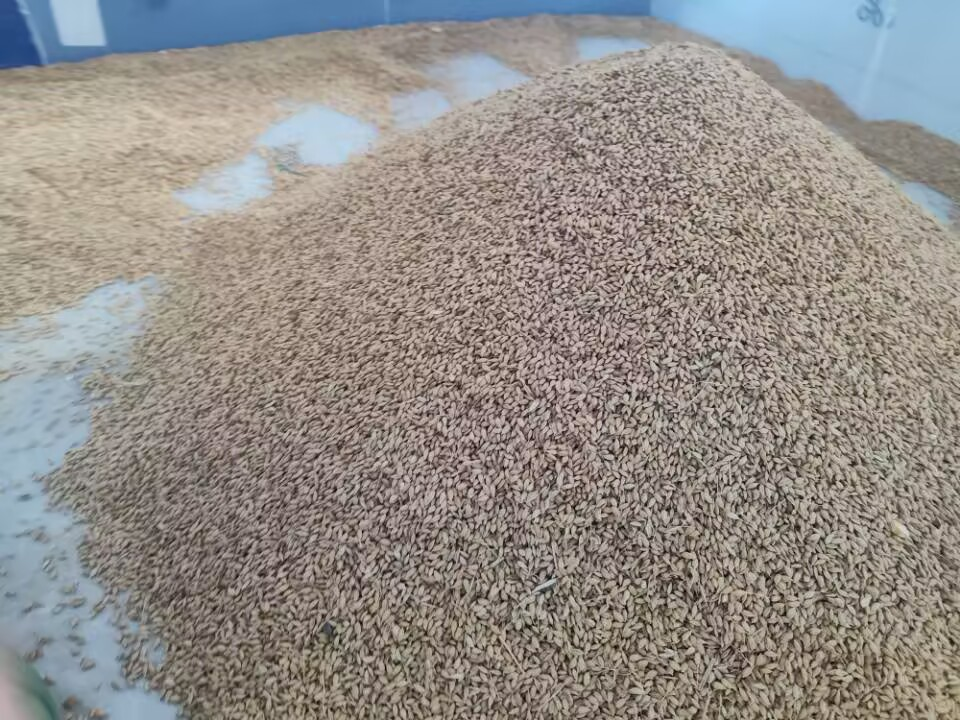Grain: (289, 19, 950, 677)
